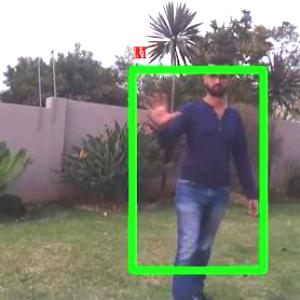follow_hand: (140, 82, 184, 128)
